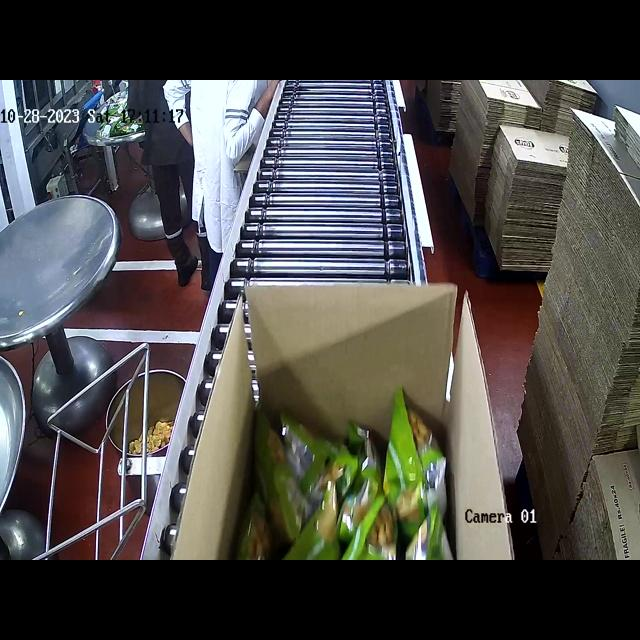yogurt: (262, 396, 455, 560)
